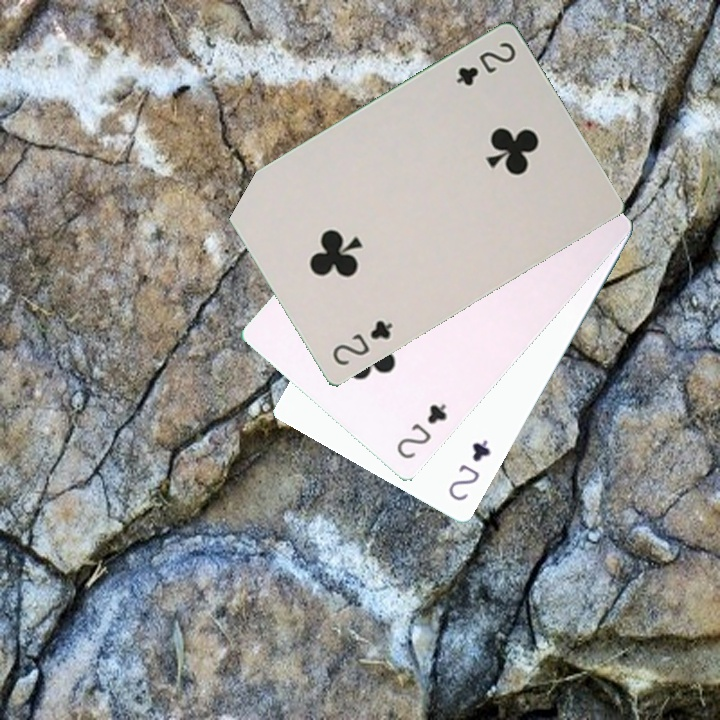2c: (392, 399, 450, 462), (328, 316, 396, 369), (452, 37, 519, 89), (444, 435, 493, 504)
